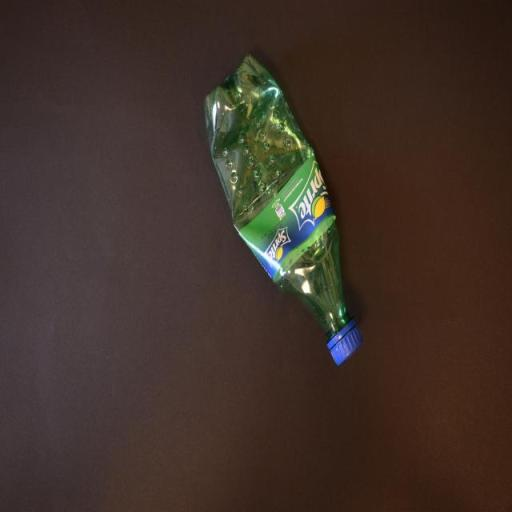plastic: (203, 54, 364, 368)
